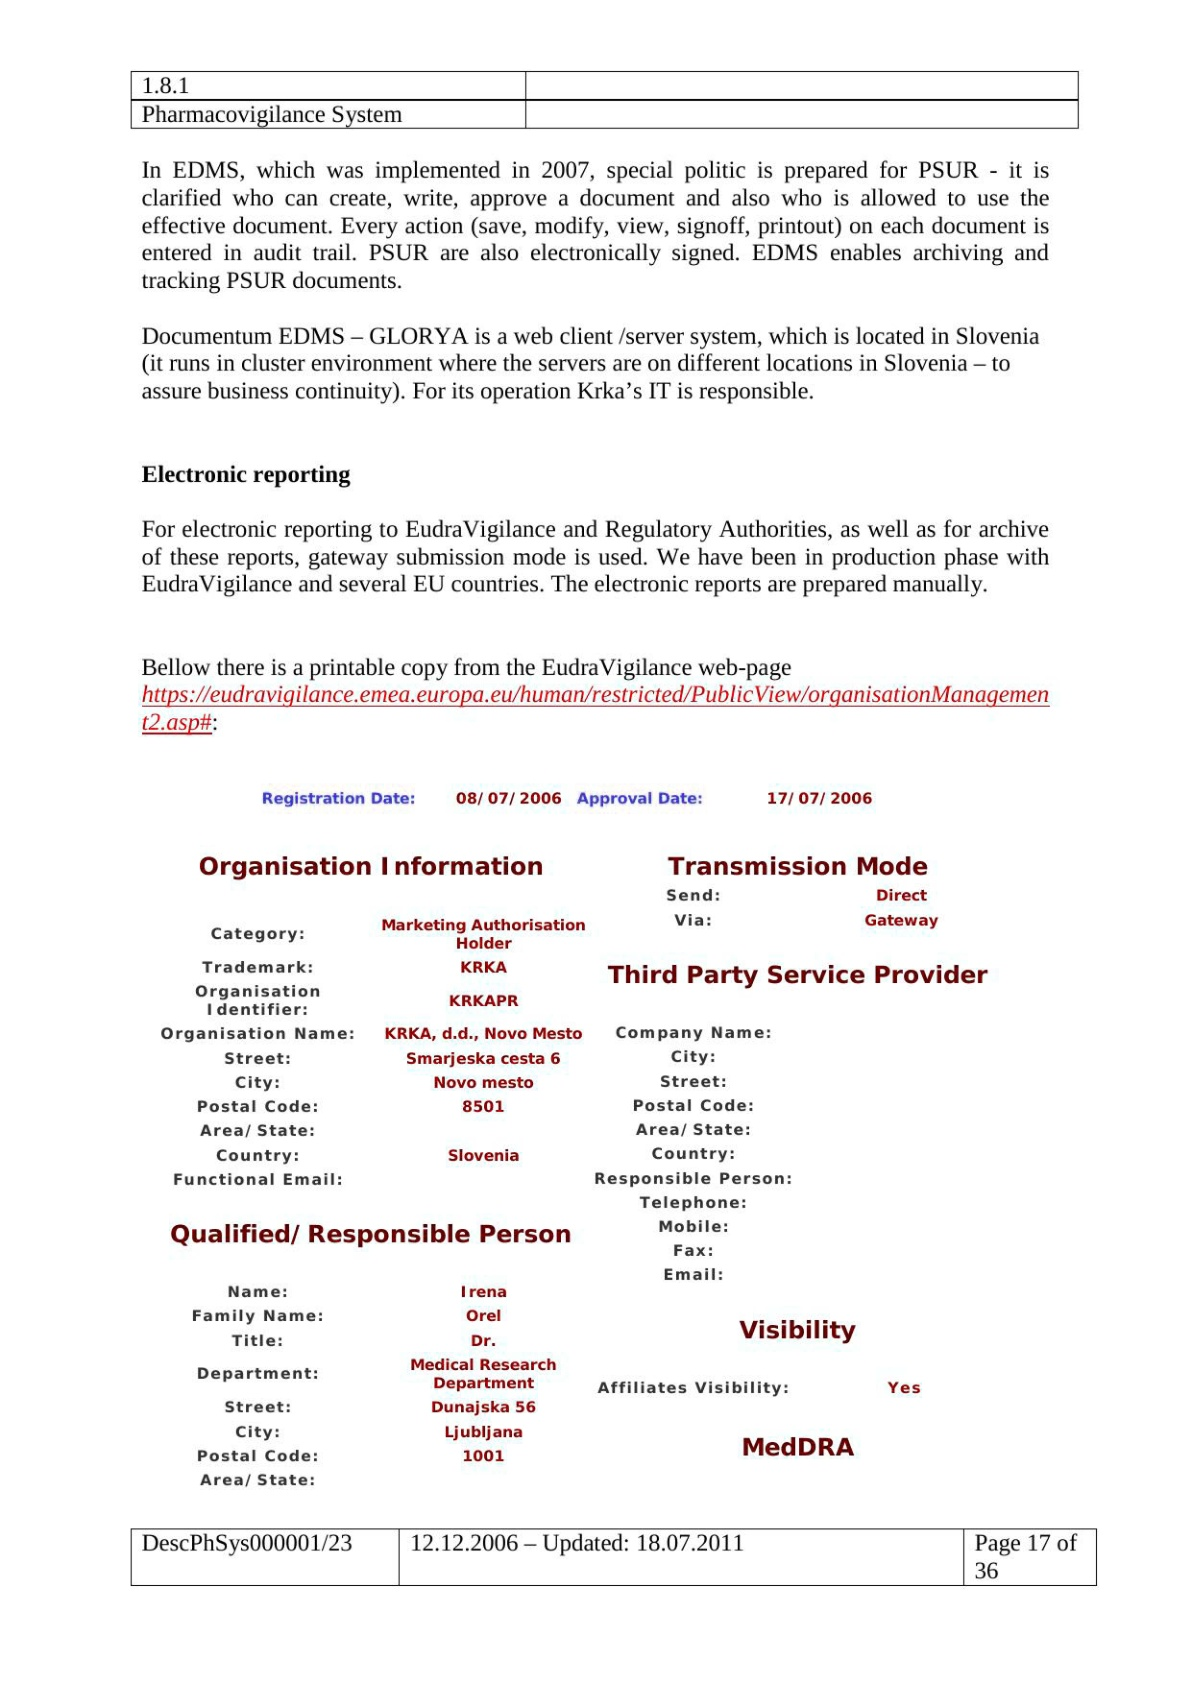full_lined: (129, 70, 1078, 130), (130, 1528, 1098, 1586)
nolines: (156, 788, 998, 1491)
